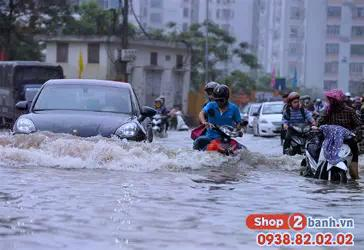ROAD_FLOODING: (0, 114, 364, 250)
